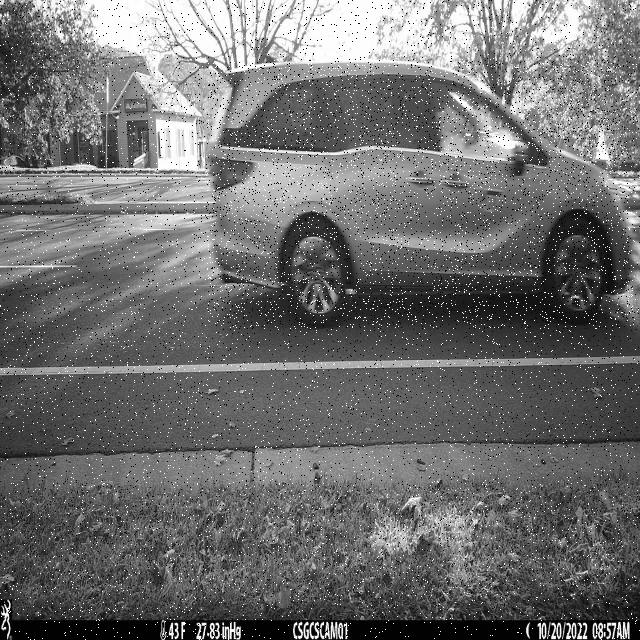Van: (207, 62, 635, 329)
